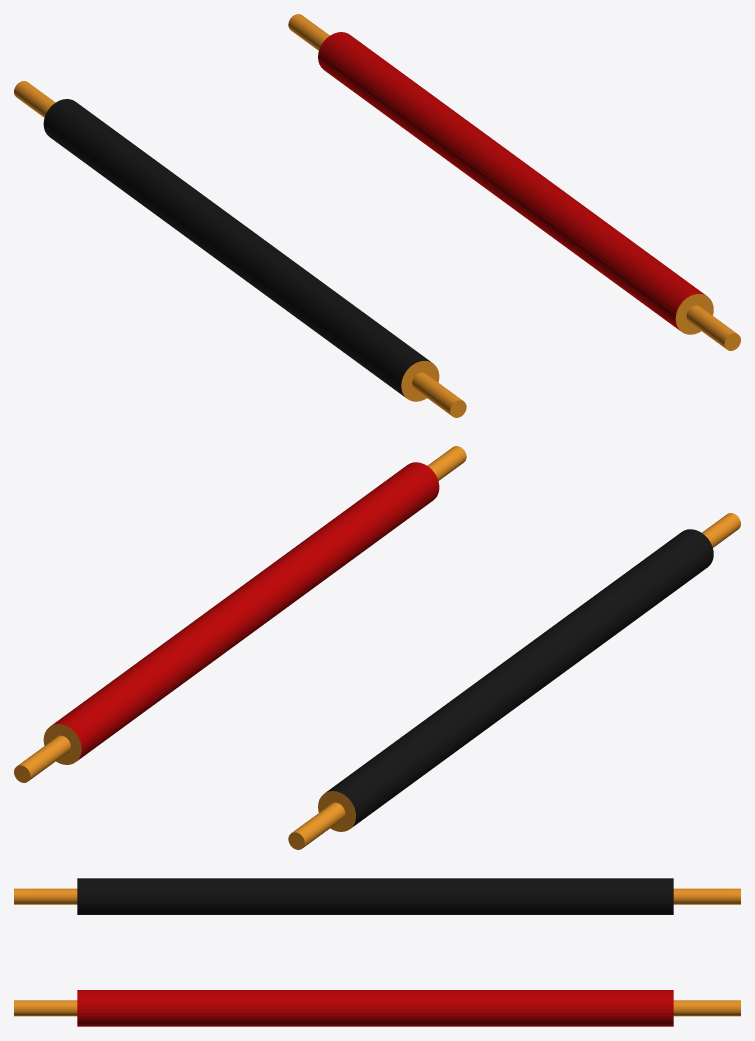
The model's file is cabos.fbx.
3 renders of one model, top to bottom at view 1: azimuth 30°, elevation 25°; view 2: azimuth 150°, elevation 25°; view 3: azimuth 270°, elevation 25°, orthographic. The views are drawn at different scales.
Parts seen in each view (by area): view 1: Cylinder, Cylinder.002; view 2: Cylinder, Cylinder.002; view 3: Cylinder, Cylinder.002.
Boxes of the visible parts, x1,y1,x2,y2 form: Cylinder: (288, 14, 740, 350); Cylinder.002: (14, 81, 466, 417); Cylinder: (14, 446, 466, 782); Cylinder.002: (288, 513, 740, 849); Cylinder: (14, 990, 740, 1026); Cylinder.002: (14, 878, 740, 914).
Size of the model in its own units: 11.42 by 1.39 by 27.61.
